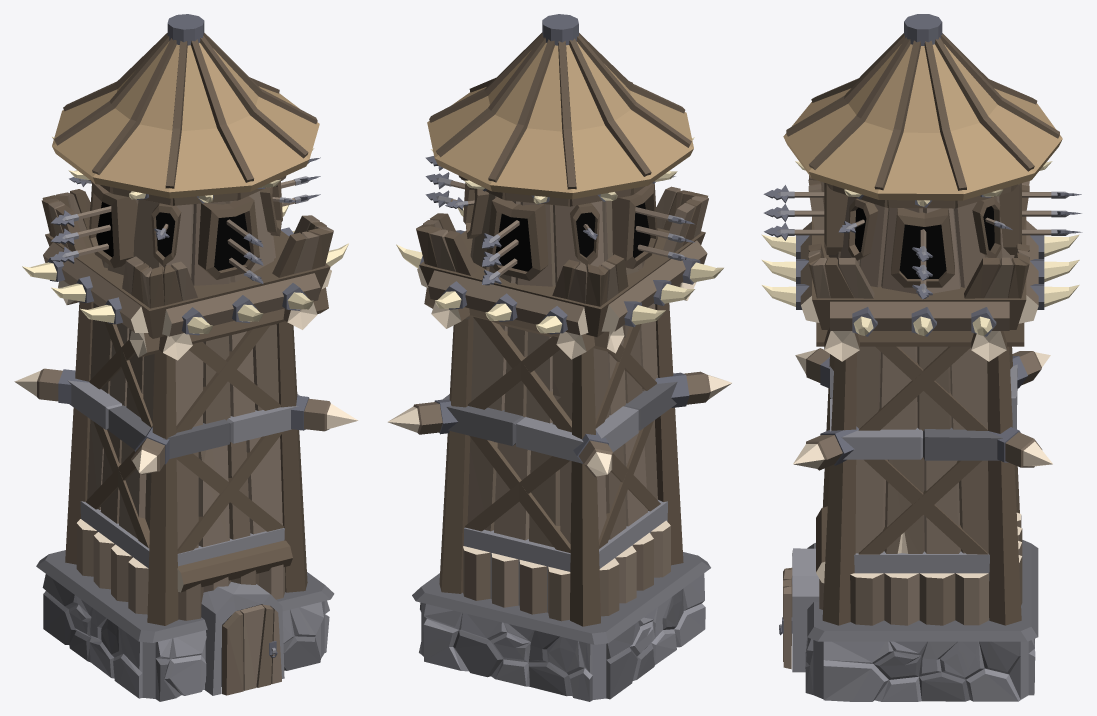
The model's file is _arches_tower_LVL_4.fbx.
3 views of the same model, side by side, from view 1: azimuth 30°, elevation 25°; view 2: azimuth 150°, elevation 25°; view 3: azimuth 270°, elevation 25° (orthographic). The views are drawn at different scales.
Parts seen in each view (by area): view 1: arches_tower_LVL_4; view 2: arches_tower_LVL_4; view 3: arches_tower_LVL_4.
Boxes of the visible parts, x1=… form: arches_tower_LVL_4: x1=14, y1=14, x2=358, y2=701; arches_tower_LVL_4: x1=388, y1=14, x2=731, y2=701; arches_tower_LVL_4: x1=761, y1=14, x2=1082, y2=701.
Size of the model in its own units: 800 by 1749 by 805.
